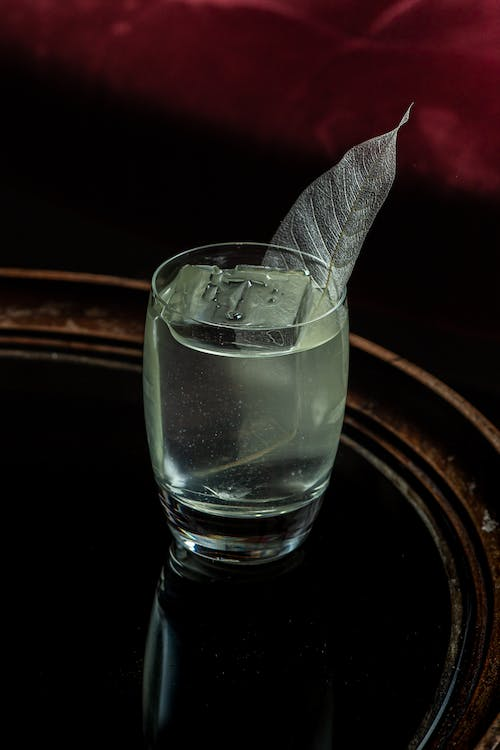alcohol: (139, 240, 351, 566)
